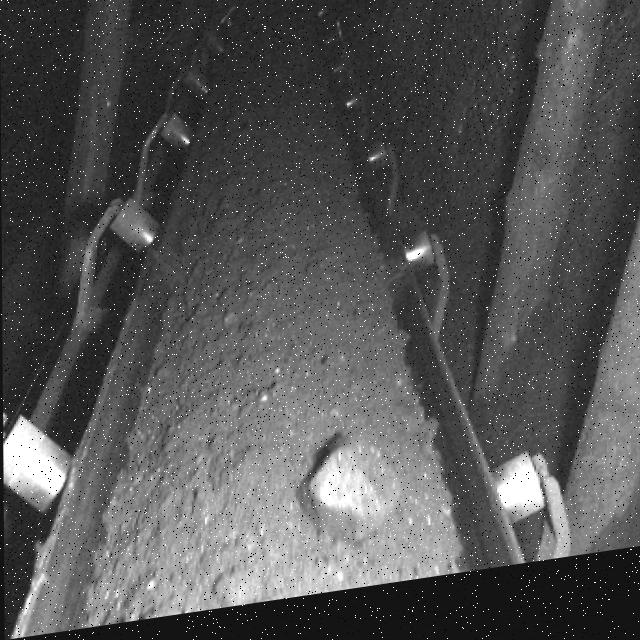large_sized_coal: (305, 435, 402, 560)
